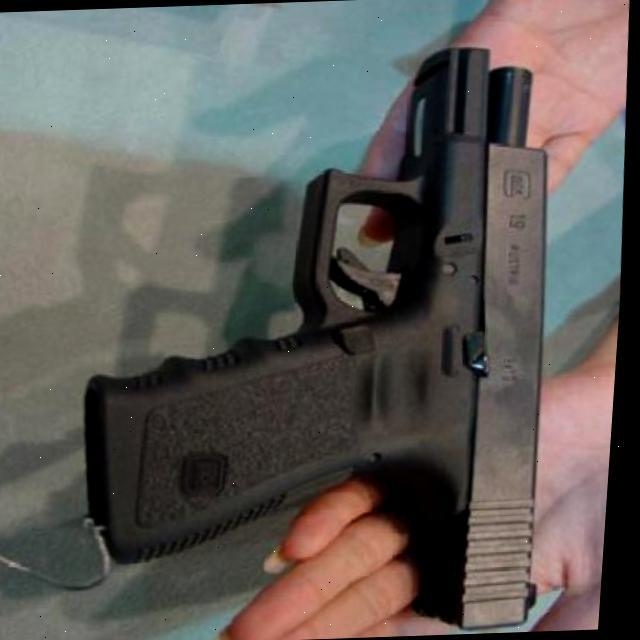gun: (59, 40, 582, 638)
